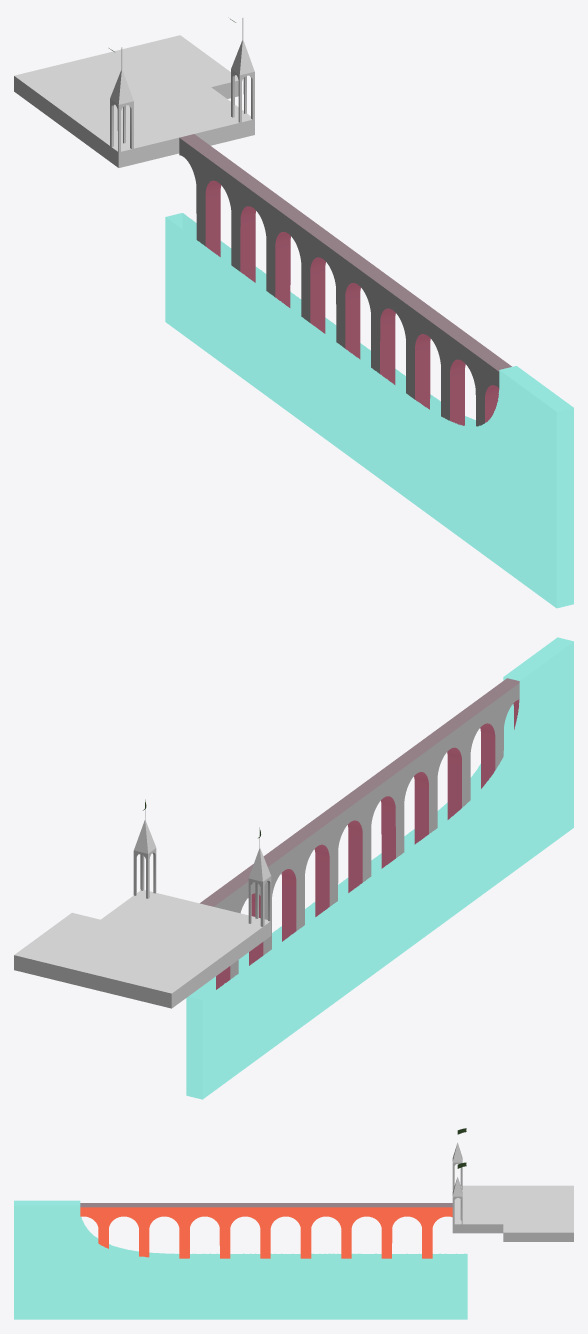
File: hra lvl1.fbx
3 views of the same model, one above another, from view 1: azimuth 30°, elevation 25°; view 2: azimuth 150°, elevation 25°; view 3: azimuth 270°, elevation 25° (orthographic). The views are drawn at different scales.
Visible parts, largest first — view 1: Cube, Most_1, Plošina, Věž___plná, Věž___plná_2; view 2: Cube, Most_1, Plošina, Věž___plná_2, Věž___plná; view 3: Cube, Most_1, Plošina, Věž___plná, Věž___plná_2.
Part boxes in pixels (x1,y1,x2,y2): Cube: [165, 213, 573, 608]; Most_1: [179, 134, 511, 426]; Plošina: [14, 35, 254, 167]; Věž___plná: [231, 39, 254, 122]; Věž___plná_2: [110, 69, 133, 152]; Cube: [186, 637, 573, 1099]; Most_1: [200, 678, 519, 989]; Plošina: [14, 890, 271, 1008]; Věž___plná_2: [248, 848, 271, 926]; Věž___plná: [133, 820, 156, 898]; Cube: [14, 1200, 467, 1319]; Most_1: [80, 1203, 452, 1258]; Plošina: [452, 1185, 573, 1241]; Věž___plná: [452, 1177, 462, 1224]; Věž___plná_2: [452, 1142, 462, 1189].
Size of the model in its own units: 11.03 by 18.56 by 55.36.
